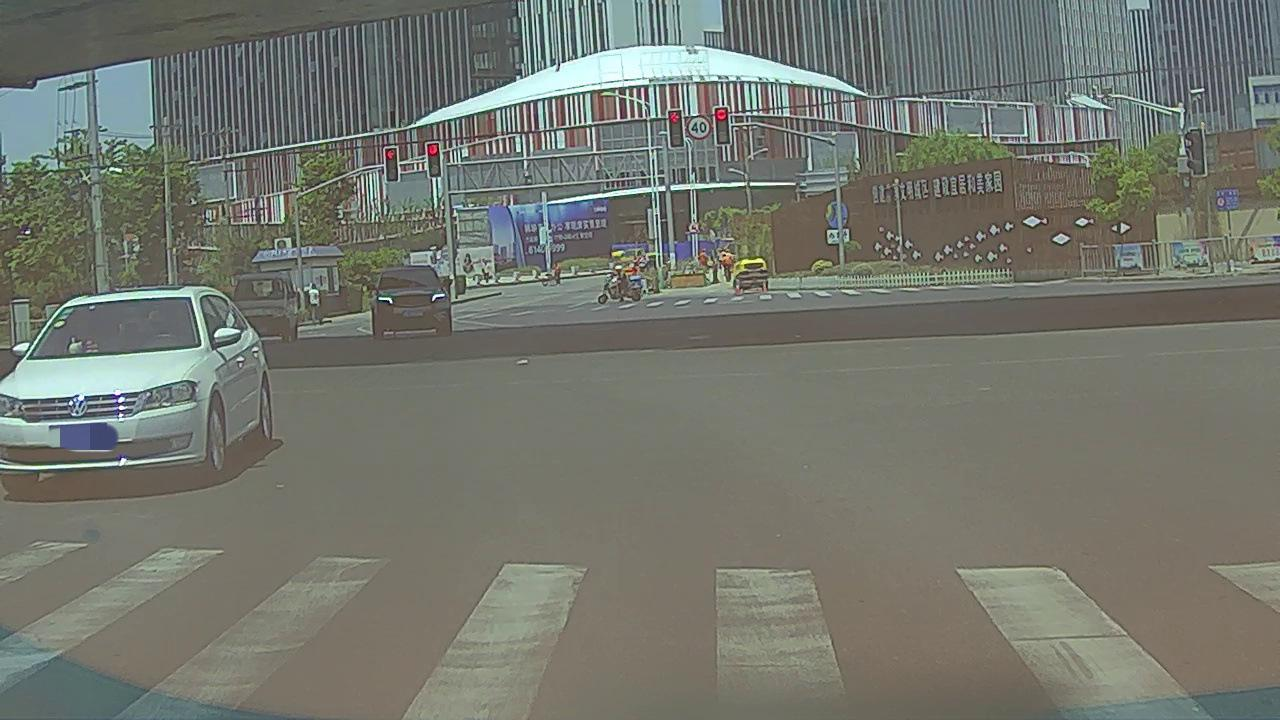traffic_light: (382, 145, 399, 181), (427, 143, 442, 177), (669, 110, 682, 147), (715, 108, 728, 145)
